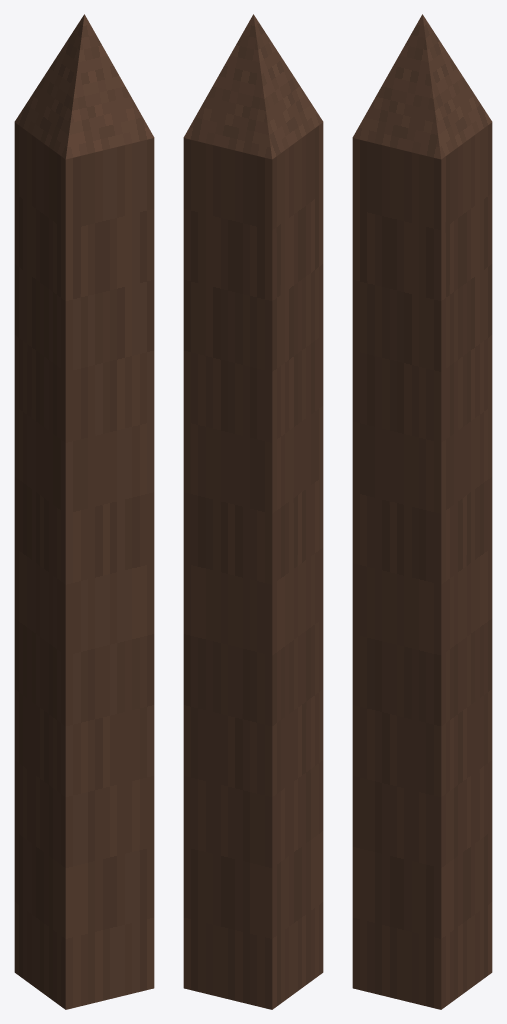
The model's file is fence_post.glb.
3 views of the same model, side by side, from view 1: azimuth 30°, elevation 25°; view 2: azimuth 150°, elevation 25°; view 3: azimuth 330°, elevation 25° (orthographic).
Parts seen in each view (by area): view 1: fence_post; view 2: fence_post; view 3: fence_post.
Boxes of the visible parts, box(x1,y1,x2,y2) form: fence_post: box(14, 14, 154, 1009); fence_post: box(183, 14, 323, 1009); fence_post: box(352, 14, 492, 1009).
Size of the model in its own units: 0.1202 by 1.25 by 0.1202.
Materials: 1 (1 with a texture image).
